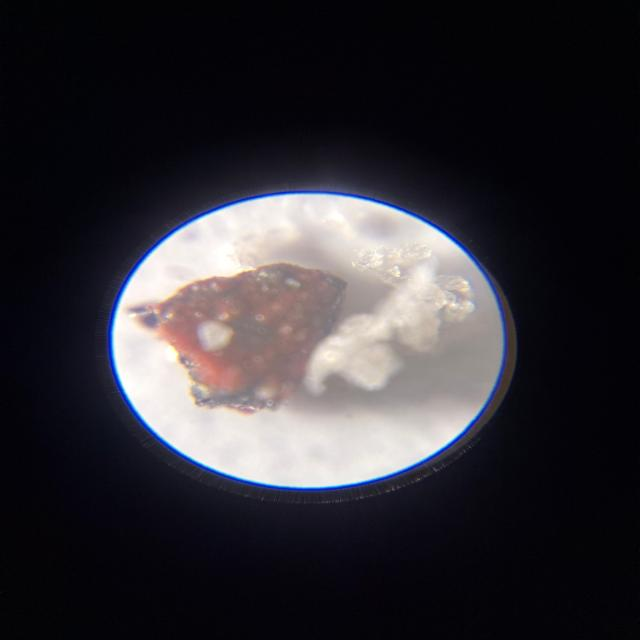microplastic_type_0: (129, 263, 345, 412), (124, 268, 125, 270)
microplastic_type_1: (334, 242, 476, 391)
